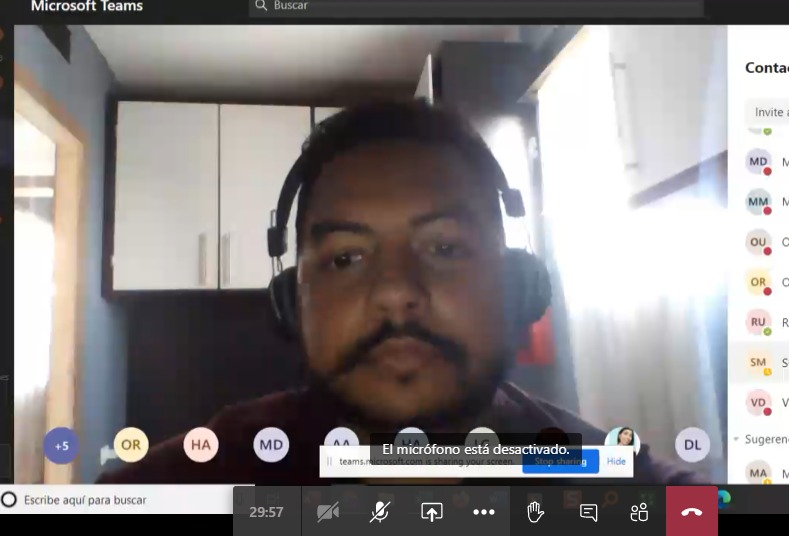Yoshi: (248, 78, 544, 424)
